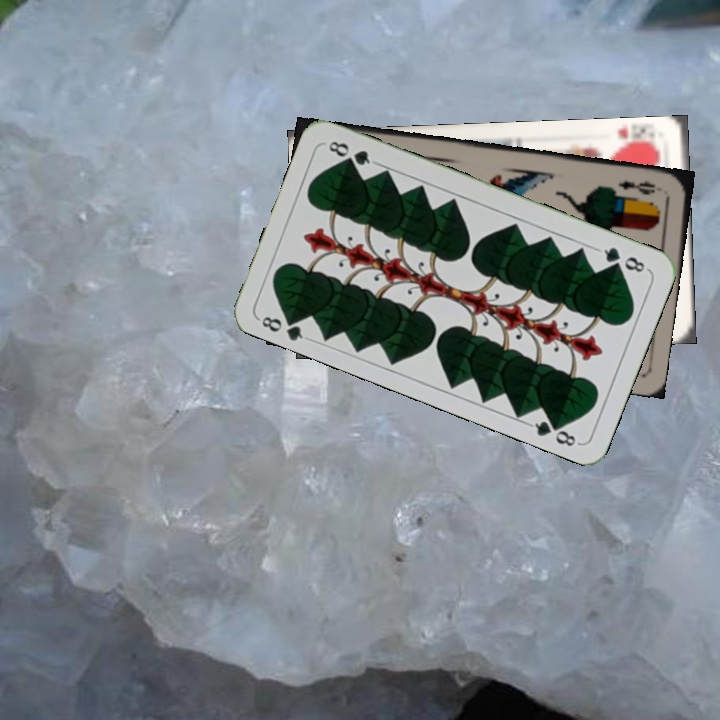EO: (614, 176, 665, 198)
G8: (255, 309, 311, 343), (594, 243, 651, 275)
HK: (614, 124, 658, 152)
